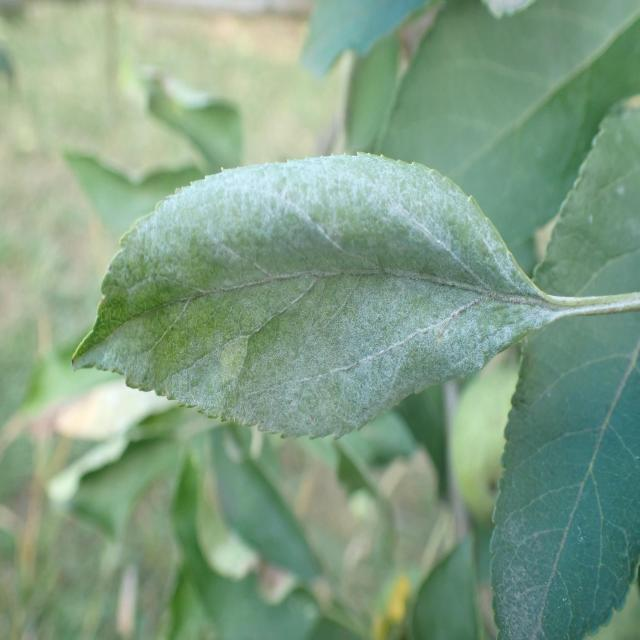Powdery_mildew: (70, 146, 562, 445)
